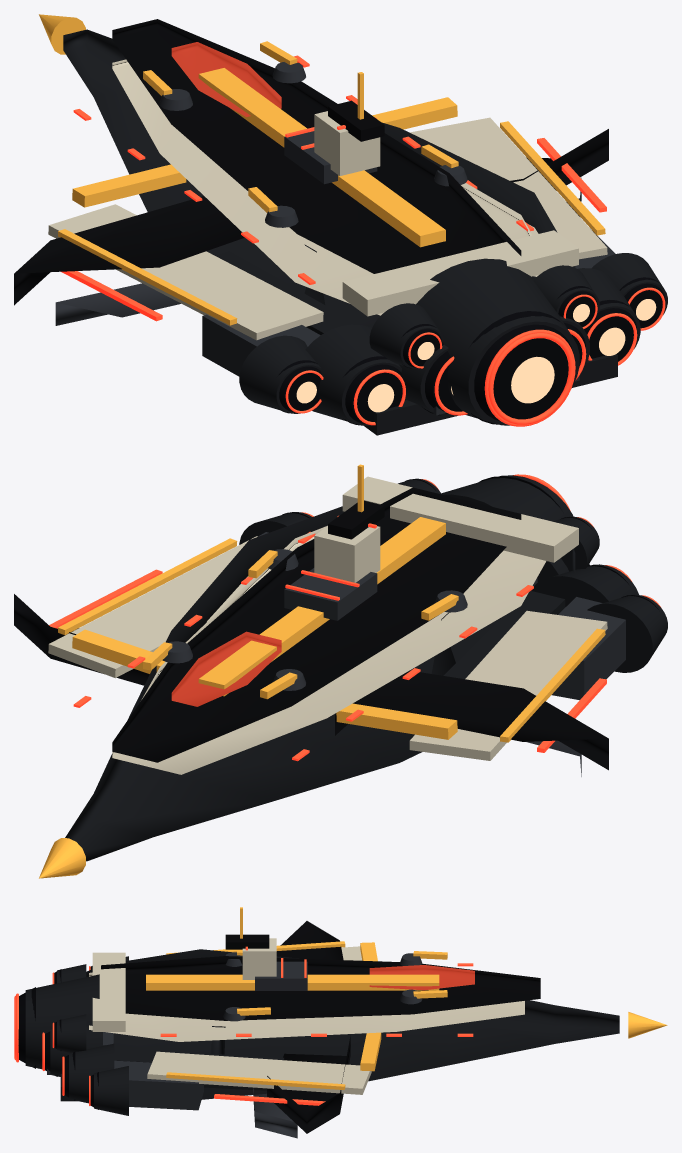
Rendered from holder-eclipse-corvette.glb.
3 renders of one model, top to bottom at view 1: azimuth 30°, elevation 25°; view 2: azimuth 150°, elevation 25°; view 3: azimuth 270°, elevation 25°, orthographic. The views are drawn at different scales.
Parts seen in each view (by area): view 1: eclipse_black_command_spine, eclipse_long_armored_keel, ivory_dorsal_capital_armor, central_command_drive_cowling, left_eclipse_broad_shoulder, left_ivory_capital_side_panel, ivory_rear_command_crossbar, right_ivory_capital_side_panel, gold_dorsal_armor_spine, outer_main_cowling (×2), outboard_cowling (×2), central_command_drive_dark_nozzle (+23 smaller); view 2: eclipse_black_command_spine, eclipse_long_armored_keel, ivory_dorsal_capital_armor, left_eclipse_broad_shoulder, left_ivory_capital_side_panel, right_ivory_capital_side_panel, ivory_rear_command_crossbar, gold_dorsal_armor_spine, gold_shoulder_plate (×2), outboard_cowling (×2), outer_engine_pod, central_command_drive_cowling (+12 smaller); view 3: eclipse_long_armored_keel, eclipse_black_command_spine, ivory_dorsal_capital_armor, right_ivory_capital_side_panel, gold_dorsal_armor_spine, central_command_drive_cowling, right_eclipse_broad_shoulder, outer_engine_pod, ivory_rear_command_crossbar, outer_main_cowling, eclipse_forward_bridge_glass, outboard_cowling (+14 smaller).
Part boxes in pixels (<box>): eclipse_black_command_spine: <box>112,19,521,273</box>; eclipse_long_armored_keel: <box>63,29,575,328</box>; ivory_dorsal_capital_armor: <box>112,59,538,315</box>; central_command_drive_cowling: <box>416,258,579,425</box>; left_eclipse_broad_shoulder: <box>14,196,244,305</box>; left_ivory_capital_side_panel: <box>48,204,323,340</box>; ivory_rear_command_crossbar: <box>342,230,578,316</box>; right_ivory_capital_side_panel: <box>410,117,607,259</box>; gold_dorsal_armor_spine: <box>198,68,445,247</box>; outer_main_cowling (×2): <box>305,268,640,425</box>; outboard_cowling (×2): <box>239,253,667,413</box>; central_command_drive_dark_nozzle: <box>470,311,572,424</box>; eclipse_black_command_spine: <box>112,487,521,762</box>; eclipse_long_armored_keel: <box>65,506,575,861</box>; ivory_dorsal_capital_armor: <box>112,525,546,774</box>; left_eclipse_broad_shoulder: <box>335,670,608,770</box>; left_ivory_capital_side_panel: <box>409,610,607,760</box>; right_ivory_capital_side_panel: <box>48,536,257,678</box>; ivory_rear_command_crossbar: <box>342,476,578,562</box>; gold_dorsal_armor_spine: <box>198,517,445,696</box>; gold_shoulder_plate (×2): <box>72,629,457,739</box>; outboard_cowling (×2): <box>239,512,667,672</box>; outer_engine_pod: <box>552,597,625,700</box>; central_command_drive_cowling: <box>440,475,573,521</box>; eclipse_long_armored_keel: <box>86,949,619,1099</box>; eclipse_black_command_spine: <box>101,956,540,1020</box>; ivory_dorsal_capital_armor: <box>89,972,524,1041</box>; right_ivory_capital_side_panel: <box>147,1051,371,1094</box>; gold_dorsal_armor_spine: <box>146,974,439,990</box>; central_command_drive_cowling: <box>25,974,99,1069</box>; right_eclipse_broad_shoulder: <box>267,1035,350,1133</box>; outer_engine_pod: <box>114,1060,203,1110</box>; ivory_rear_command_crossbar: <box>92,952,125,1031</box>; outer_main_cowling: <box>69,1043,114,1103</box>; eclipse_forward_bridge_glass: <box>369,965,474,990</box>; outboard_cowling: <box>94,1066,128,1115</box>.
Size of the model in its own units: 12.1 by 4.91 by 17.4.
